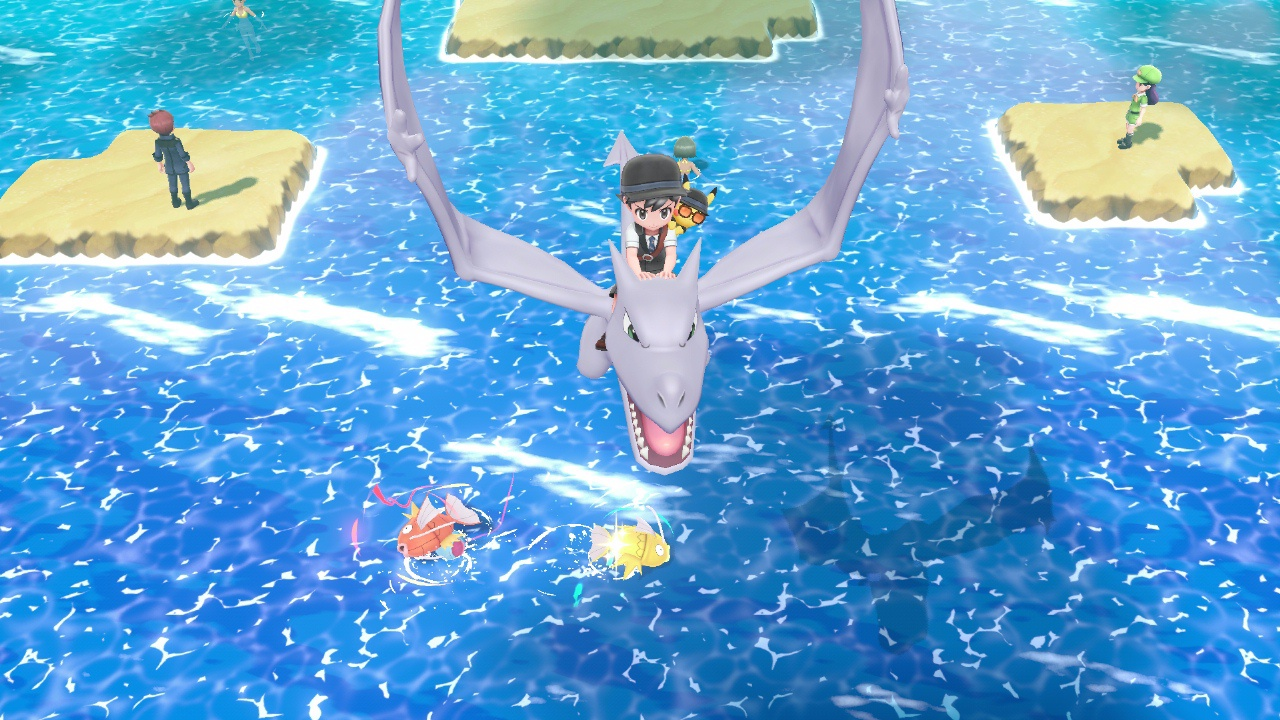Golden: (586, 522, 671, 576)
